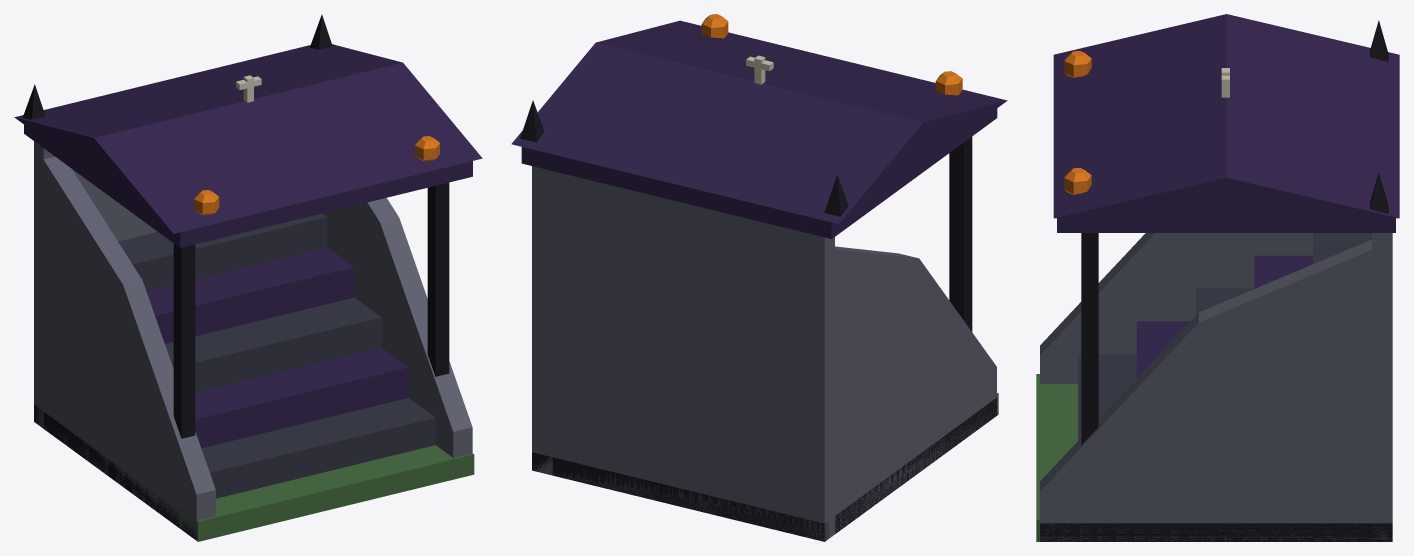
Rendered from stand.glb.
The picture shows the model from 3 angles, left to right: view 1: azimuth 30°, elevation 25°; view 2: azimuth 150°, elevation 25°; view 3: azimuth 270°, elevation 25°; orthographic projection. The views are drawn at different scales.
Parts seen in each view (by area): view 1: graveyard-stand; view 2: graveyard-stand; view 3: graveyard-stand.
Part boxes in pixels (left/top/right/bottom): graveyard-stand: left=14, top=14, right=482, bottom=541; graveyard-stand: left=511, top=14, right=1007, bottom=541; graveyard-stand: left=1036, top=14, right=1399, bottom=541.
Size of the model in its own units: 1.12 by 1.27 by 1.05.
